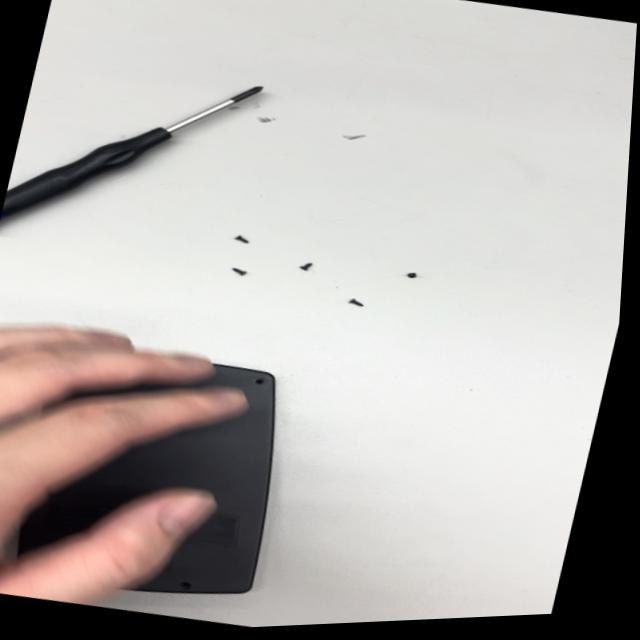screw: (294, 256, 320, 277), (344, 292, 371, 312), (227, 228, 252, 249), (400, 265, 424, 285), (227, 263, 252, 280)
screw_driver: (0, 43, 273, 259)
